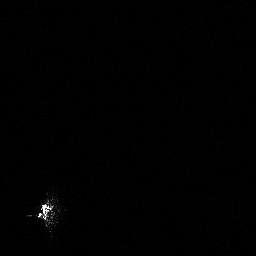ship: (24, 197, 63, 232)
